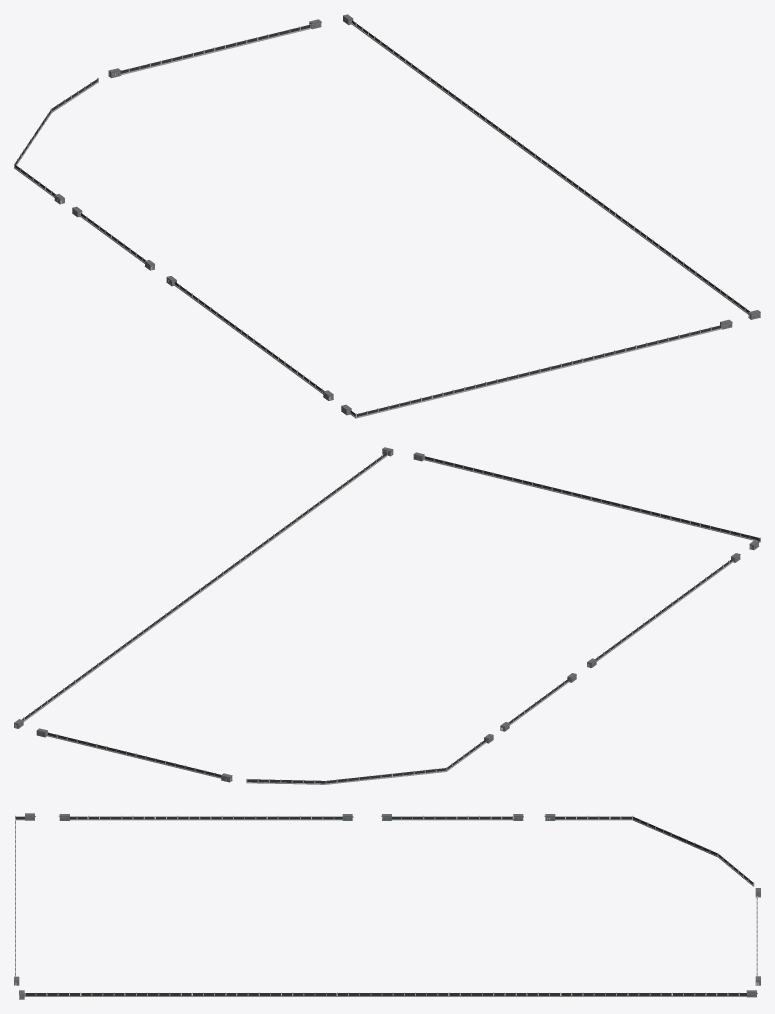
3 renders of one model, top to bottom at view 1: azimuth 30°, elevation 25°; view 2: azimuth 150°, elevation 25°; view 3: azimuth 270°, elevation 25°, orthographic. The views are drawn at different scales.
Parts seen in each view (by area): view 1: 围墙06, 围墙00; view 2: 围墙06, 围墙00; view 3: 围墙06, 围墙00, 围墙03, 围墙05.
Boxes of the visible parts, x1,y1,x2,y2 form: 围墙06: [15, 20, 749, 416]; 围墙00: [14, 22, 748, 418]; 围墙06: [22, 452, 759, 783]; 围墙00: [23, 451, 760, 784]; 围墙06: [16, 816, 752, 995]; 围墙00: [15, 815, 757, 996]; 围墙03: [14, 815, 760, 998]; 围墙05: [14, 813, 760, 999].
Bounding box in the file's own units: 341 × 4.36 × 595.
7 materials, 7 textured.
